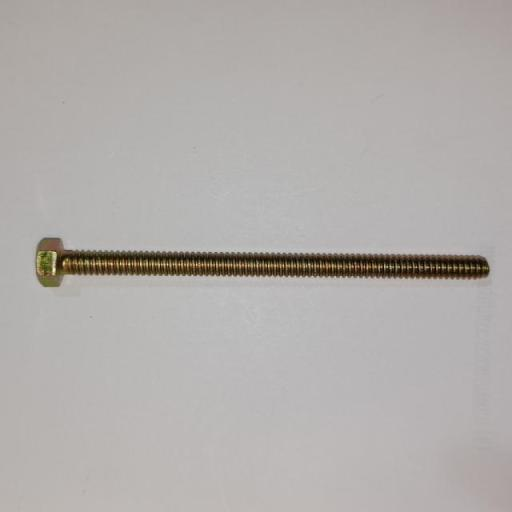Bolt: (35, 237, 490, 287)
